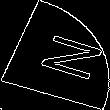N_W: (15, 27, 95, 83)
